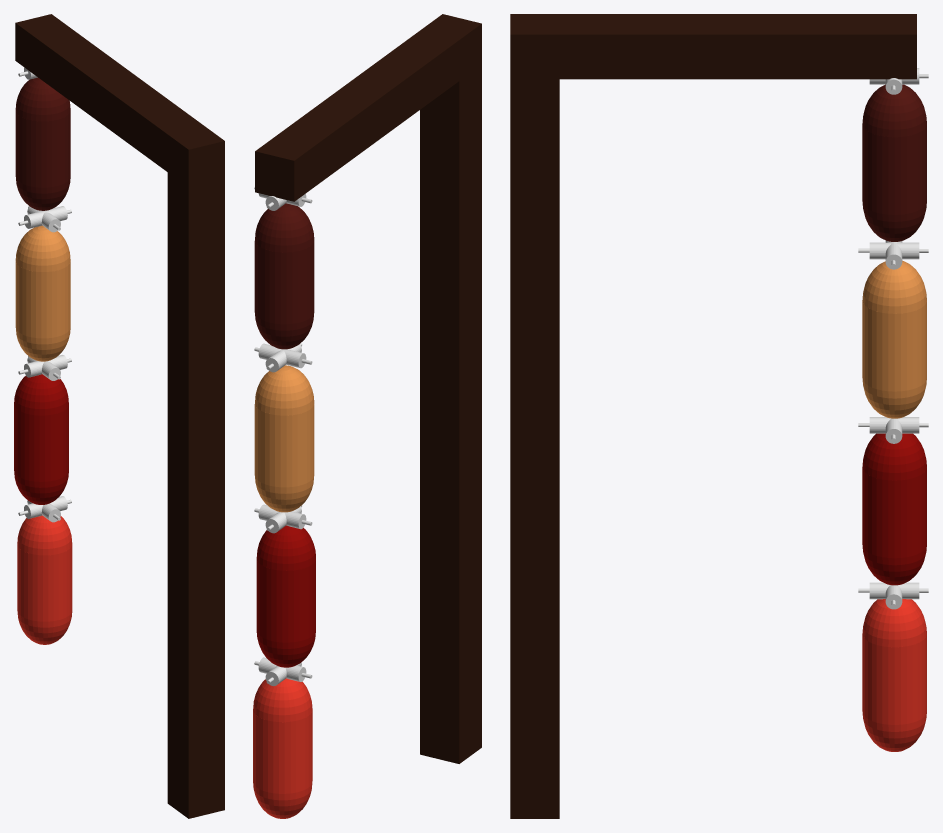
Rendered from nowe.gltf.
The picture shows the model from 3 angles, left to right: view 1: azimuth 30°, elevation 25°; view 2: azimuth 150°, elevation 25°; view 3: azimuth 270°, elevation 25°; orthographic projection. The views are drawn at different scales.
Parts seen in each view (by area): view 1: szubienica, kielbasa_02, kielbasa_04, kielbasa_03, kielbasa_01, walec_02, walec_03, walec_04; view 2: szubienica, kielbasa_02, kielbasa_01, kielbasa_03, kielbasa_04, walec_02, walec_03, walec_04, walec_01; view 3: szubienica, kielbasa_02, kielbasa_01, kielbasa_04, kielbasa_03, walec_02, walec_04, walec_03.
Part boxes in pixels (bbox=[...]): szubienica: bbox=[15, 14, 224, 818]; kielbasa_02: bbox=[15, 225, 70, 361]; kielbasa_04: bbox=[17, 515, 72, 644]; kielbasa_03: bbox=[14, 374, 68, 504]; kielbasa_01: bbox=[15, 77, 70, 210]; walec_02: bbox=[18, 206, 71, 232]; walec_03: bbox=[18, 355, 71, 380]; walec_04: bbox=[18, 496, 71, 522]; szubienica: bbox=[255, 14, 481, 763]; kielbasa_02: bbox=[254, 365, 314, 512]; kielbasa_01: bbox=[254, 203, 314, 349]; kielbasa_03: bbox=[256, 525, 315, 667]; kielbasa_04: bbox=[253, 678, 312, 818]; walec_02: bbox=[254, 343, 312, 372]; walec_03: bbox=[254, 504, 312, 533]; walec_04: bbox=[254, 657, 312, 686]; walec_01: bbox=[254, 187, 312, 210]; szubienica: bbox=[510, 14, 916, 818]; kielbasa_02: bbox=[862, 260, 926, 418]; kielbasa_01: bbox=[862, 84, 926, 241]; kielbasa_04: bbox=[862, 599, 926, 751]; kielbasa_03: bbox=[862, 433, 926, 585]; walec_02: bbox=[858, 240, 928, 269]; walec_04: bbox=[858, 582, 928, 609]; walec_03: bbox=[858, 417, 928, 443].
Bounding box in the file's own units: 13.9 × 168 × 81.03.
